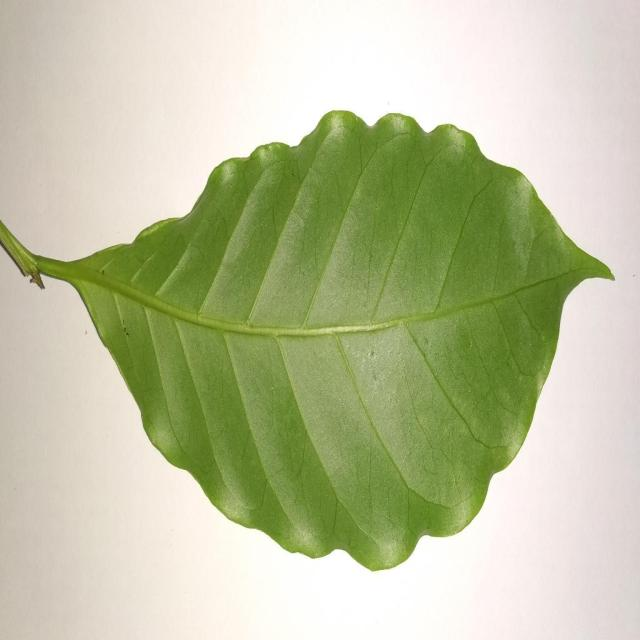Sanas: (0, 111, 614, 574)
